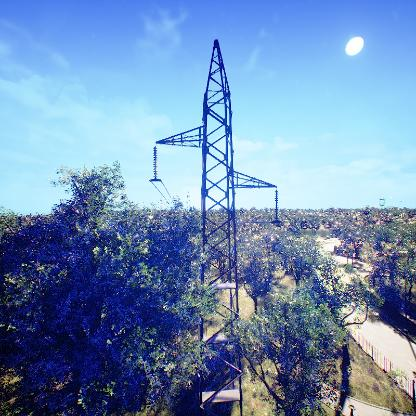tower: (143, 37, 283, 416)
